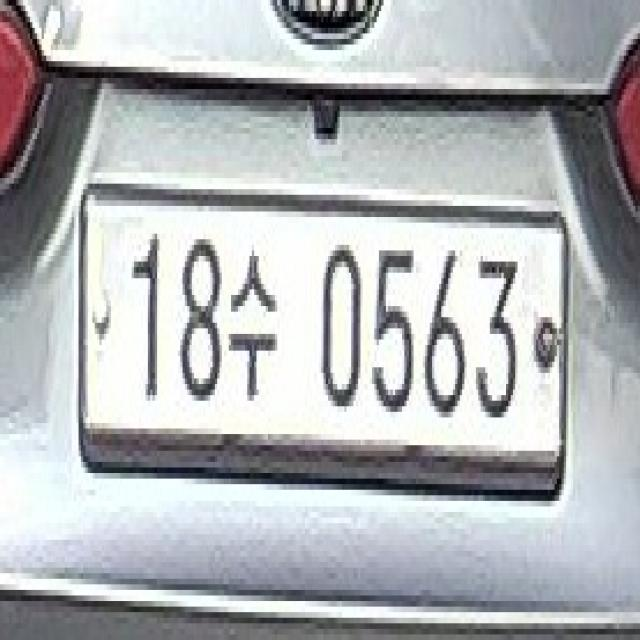0: (319, 239, 365, 423)
1: (129, 228, 169, 412)
3: (474, 240, 522, 428)
5: (370, 240, 420, 428)
6: (425, 239, 467, 434)
8: (180, 228, 224, 418)
license_plate: (74, 178, 571, 512)
su: (228, 245, 280, 412)
